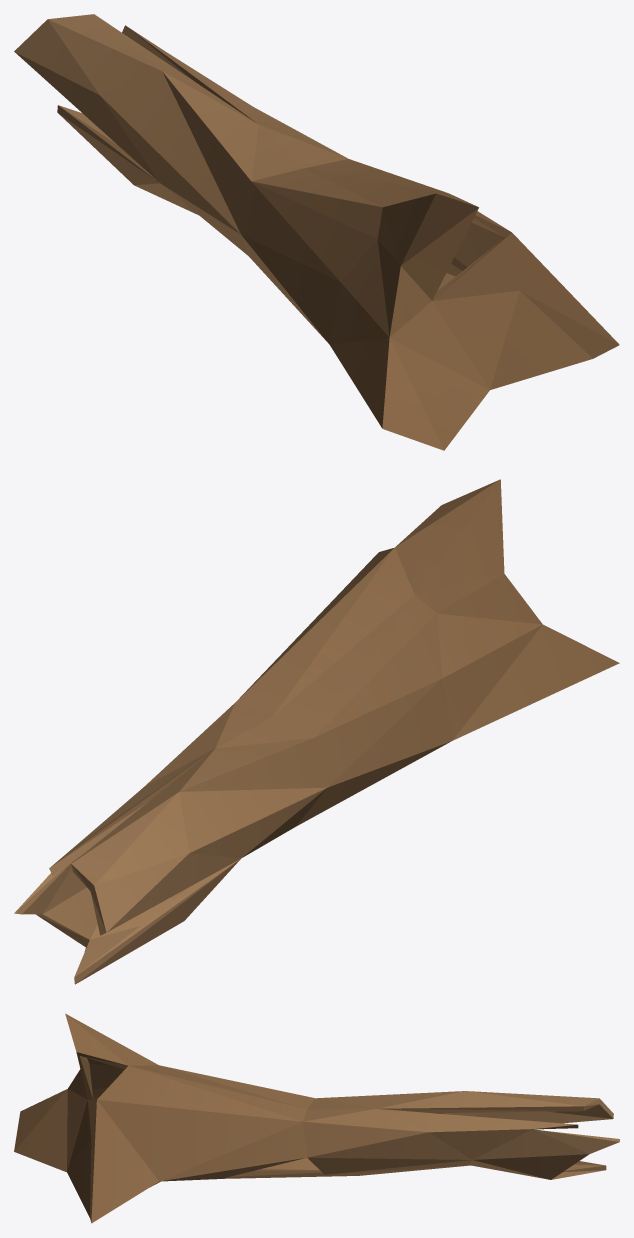
Rendered from log_hollow.fbx.
3 views of the same model, one above another, from view 1: azimuth 30°, elevation 25°; view 2: azimuth 150°, elevation 25°; view 3: azimuth 270°, elevation 25° (orthographic). The views are drawn at different scales.
Visible parts, largest first — view 1: log_hollow; view 2: log_hollow; view 3: log_hollow.
Part boxes in pixels (x1=…): log_hollow: x1=14, y1=14, x2=619, y2=450; log_hollow: x1=14, y1=479, x2=619, y2=984; log_hollow: x1=14, y1=1013, x2=619, y2=1223.
Bounding box in the file's own units: 1.85 × 1.35 × 5.
Materials: 1 (1 with a texture image).
